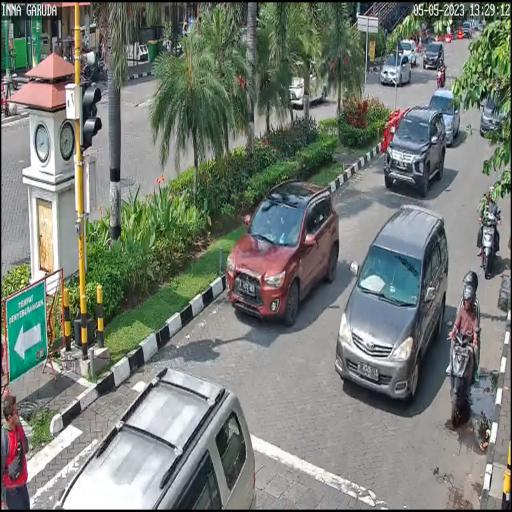mobil: (51, 371, 261, 512), (334, 204, 450, 412), (222, 175, 341, 329), (380, 106, 450, 196), (428, 83, 461, 146)
motor: (447, 318, 483, 433), (475, 208, 502, 274)
